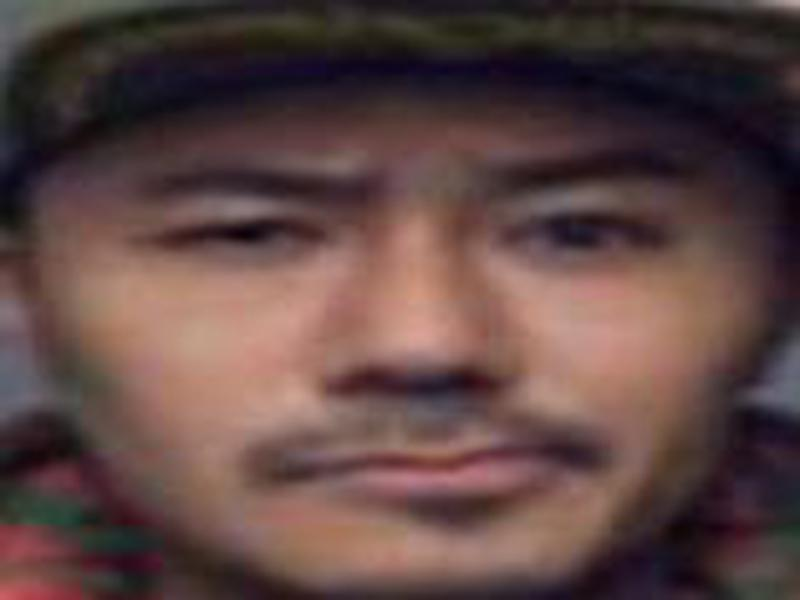without_mask: (51, 91, 761, 600)
